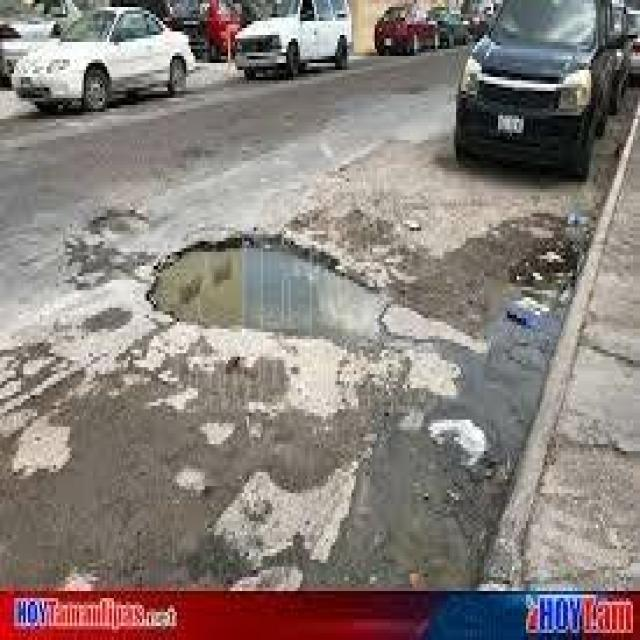Pothole: (51, 192, 568, 406)
